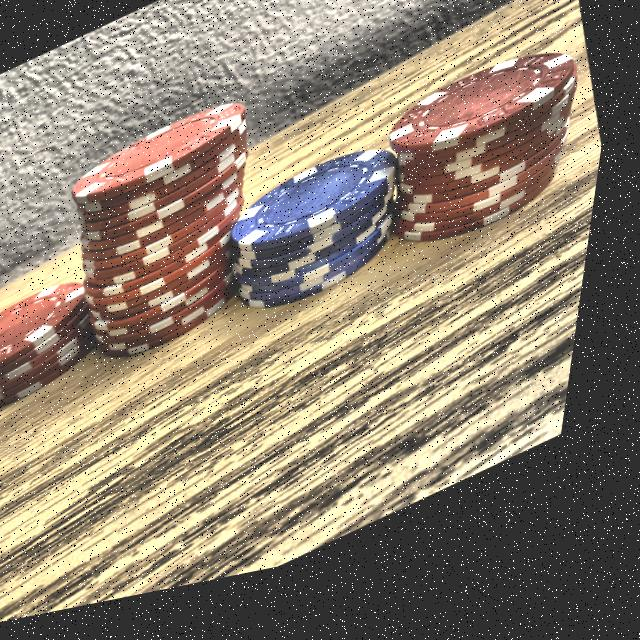Chip: (14, 57, 329, 422), (351, 18, 626, 312), (210, 125, 440, 356), (0, 250, 128, 448)
